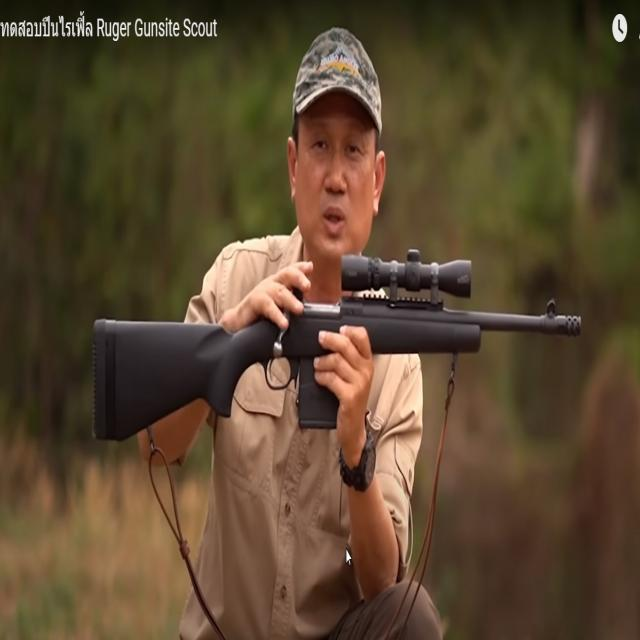rifle: (88, 236, 586, 466)
